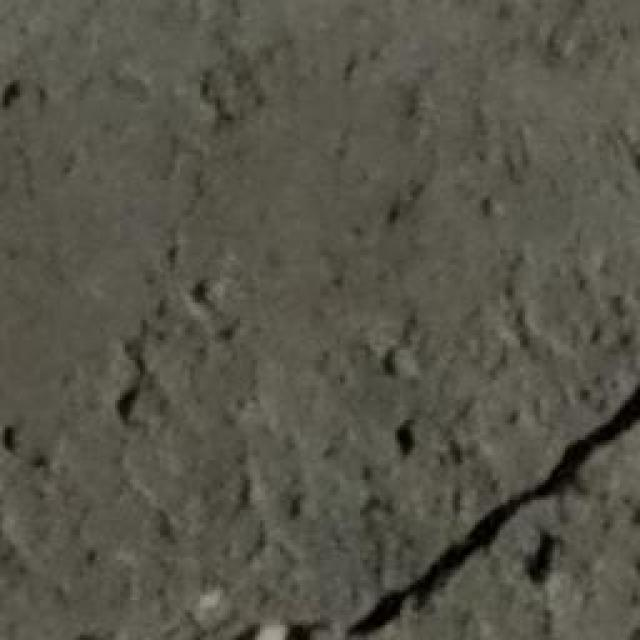Diagonal: (281, 382, 640, 640)
Rippled: (0, 0, 640, 375)
